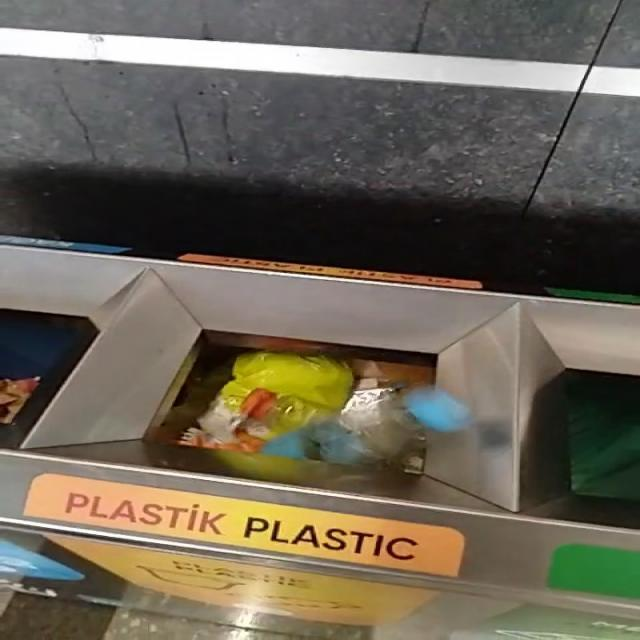Plastic: (308, 385, 427, 475)
